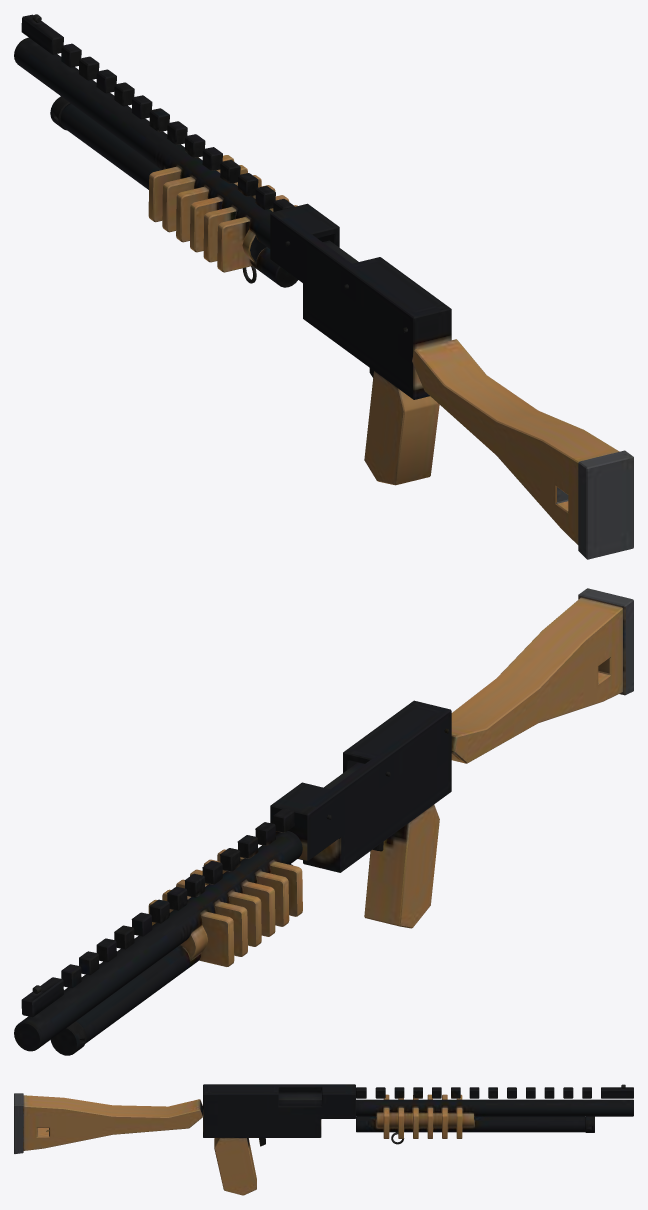
The model's file is W_shotgun_pump.glb.
The picture shows the model from 3 angles, top to bottom: view 1: azimuth 30°, elevation 25°; view 2: azimuth 150°, elevation 25°; view 3: azimuth 270°, elevation 25°; orthographic projection. The views are drawn at different scales.
Visible parts, largest first — view 1: W_shotgun_pump; view 2: W_shotgun_pump; view 3: W_shotgun_pump.
Boxes of the visible parts, x1,y1,x2,y2 form: W_shotgun_pump: [14, 14, 633, 559]; W_shotgun_pump: [14, 588, 633, 1055]; W_shotgun_pump: [14, 1084, 633, 1195].
Bounding box in the file's own units: 0.072 × 0.1686 × 0.892.
Materials: 1 (1 with a texture image).
